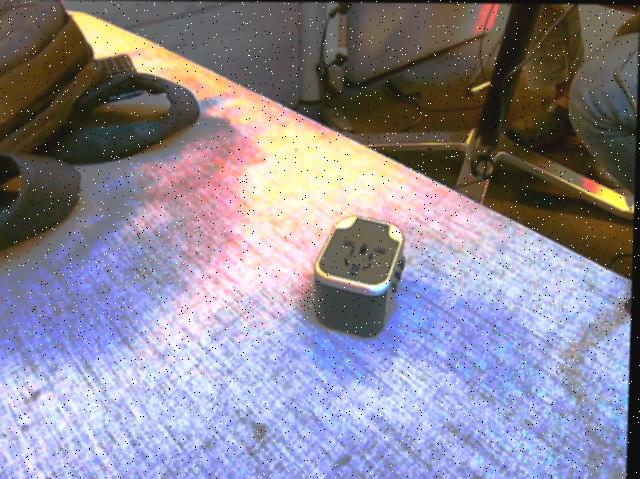adapter: (313, 214, 409, 338)
